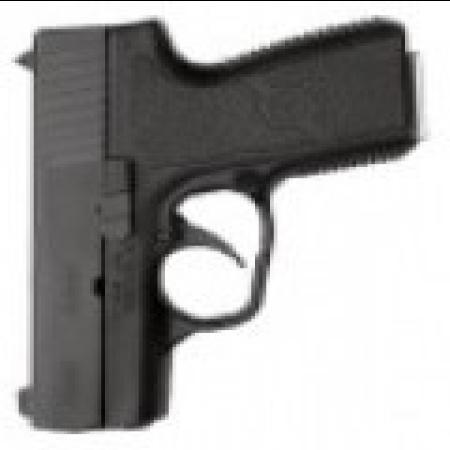Pistol: (11, 19, 420, 434)
